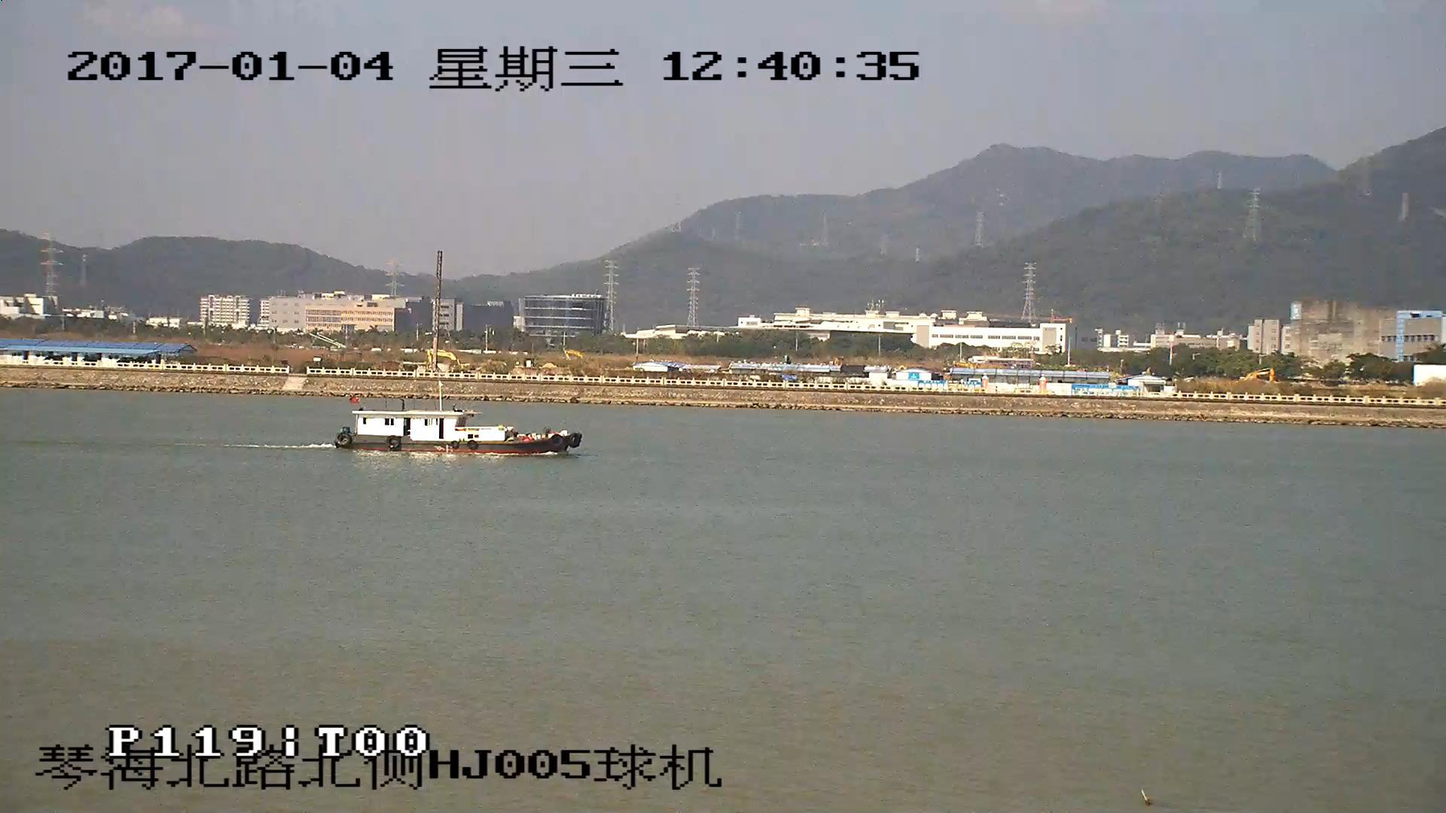fishing boat: (330, 393, 577, 454)
